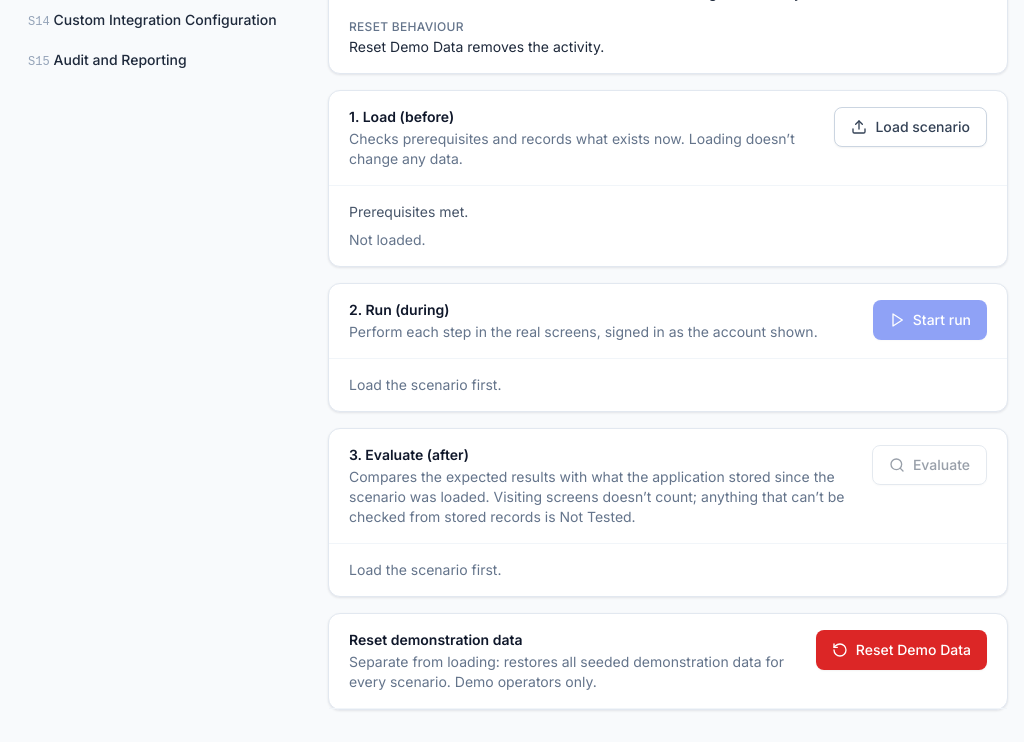
Demo Control Centre screen › reset needs confirmation, explains what is kept, and is unavailable to non-operators
The image size is (1024, 742).
(page scrolled)
Click the button "Reset Demo Data".
click(901, 650)  # box [816,630,987,670]
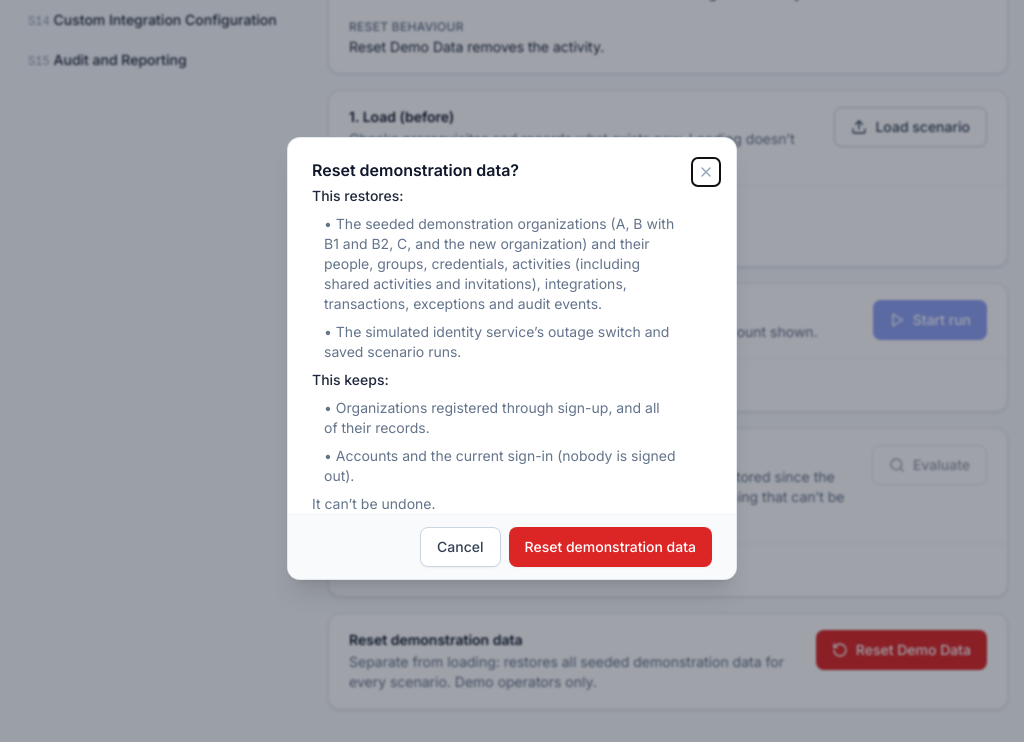
Now the text "Organizations registered through sign-up" is shown, box [324,398,660,436]
Click the button "Cancel".
click(460, 546)  # box [420,526,501,566]
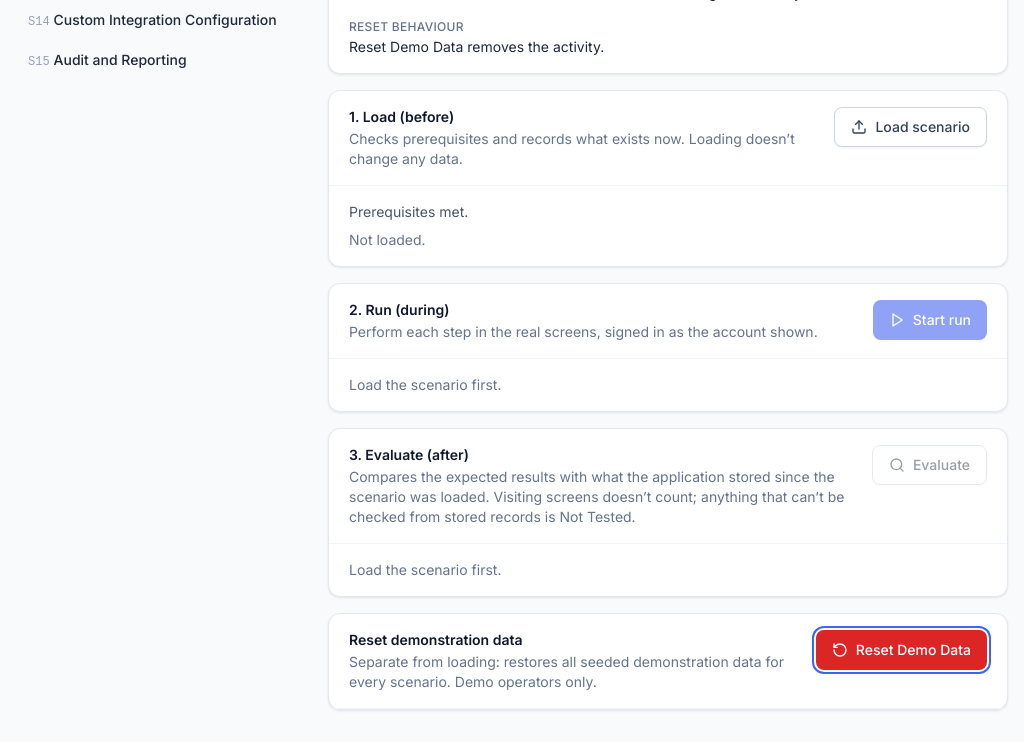
Now the dialog is gone
